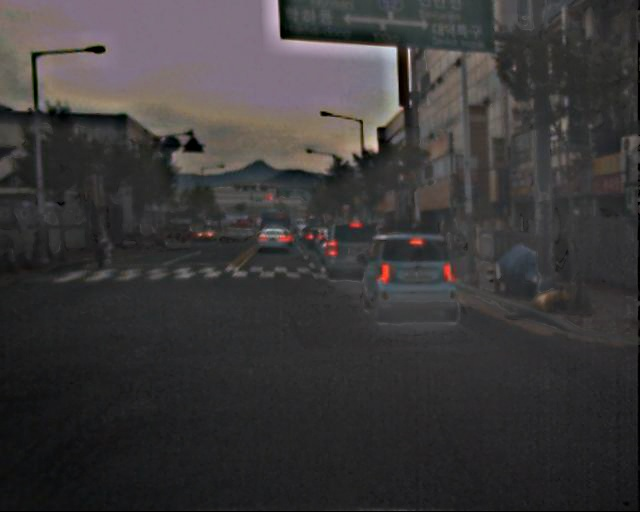person: (92, 230, 113, 269)
